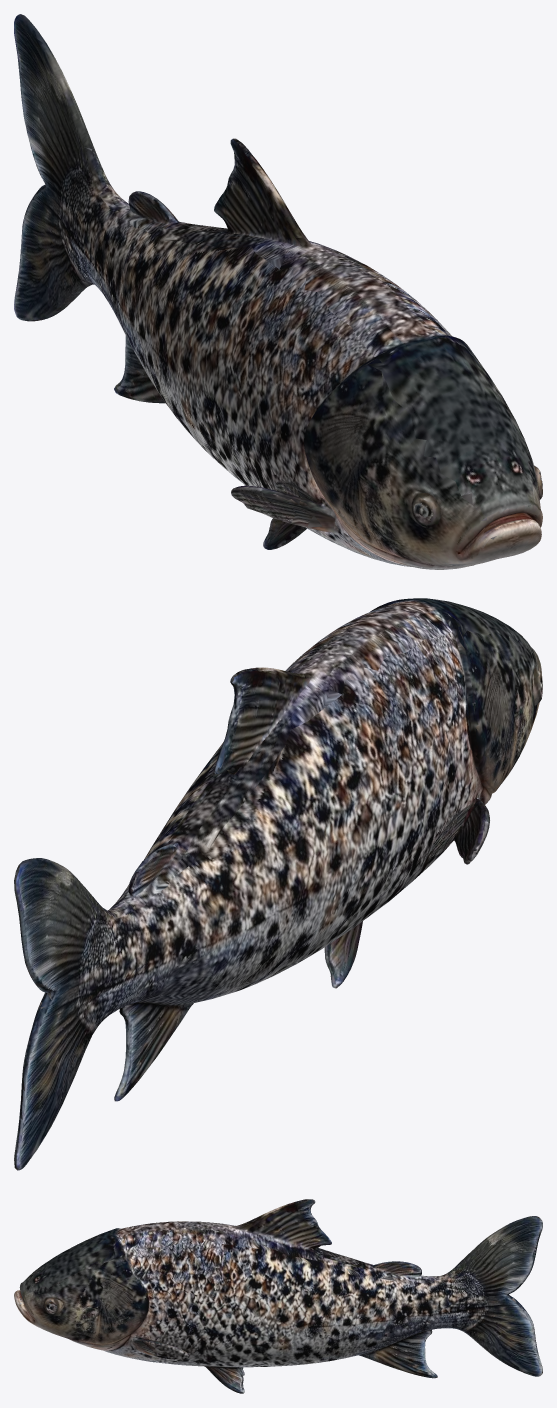
File: bighead.glb
3 renders of one model, top to bottom at view 1: azimuth 30°, elevation 25°; view 2: azimuth 150°, elevation 25°; view 3: azimuth 270°, elevation 25°, orthographic. The views are drawn at different scales.
Parts seen in each view (by area): view 1: bighead; view 2: bighead; view 3: bighead.
Boxes of the visible parts, <box> form: bighead: <box>14,14,542,569</box>; bighead: <box>14,598,542,1170</box>; bighead: <box>14,1199,542,1393</box>.
Size of the model in its own units: 0.2814 by 0.3873 by 1.
1 material, 1 textured.
